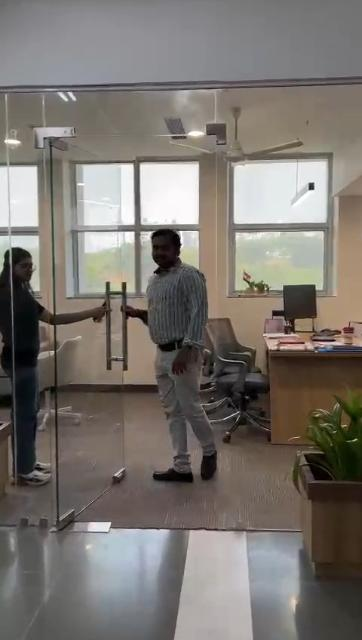floor: (0, 528, 302, 640), (112, 484, 288, 530)
moving-obj: (0, 239, 101, 481), (123, 228, 219, 480)
object: (294, 403, 362, 573), (216, 314, 268, 446), (280, 278, 324, 332)
wall: (331, 153, 362, 333), (38, 166, 72, 288), (202, 165, 230, 307)
